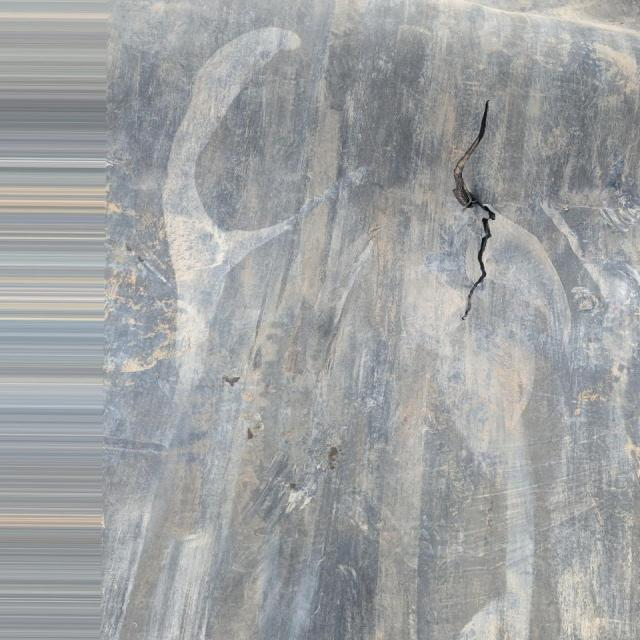Tear: (443, 100, 507, 319)
